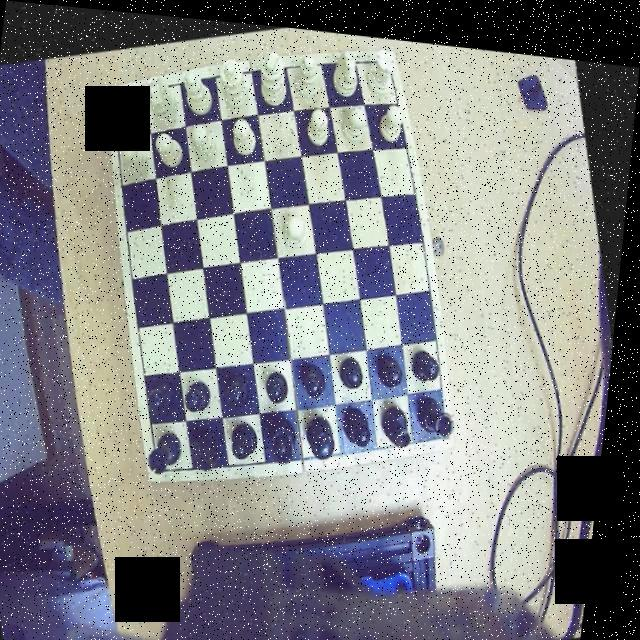chess-table-corners: (435, 409, 464, 440), (156, 452, 184, 480), (105, 83, 128, 115), (372, 40, 397, 67)
